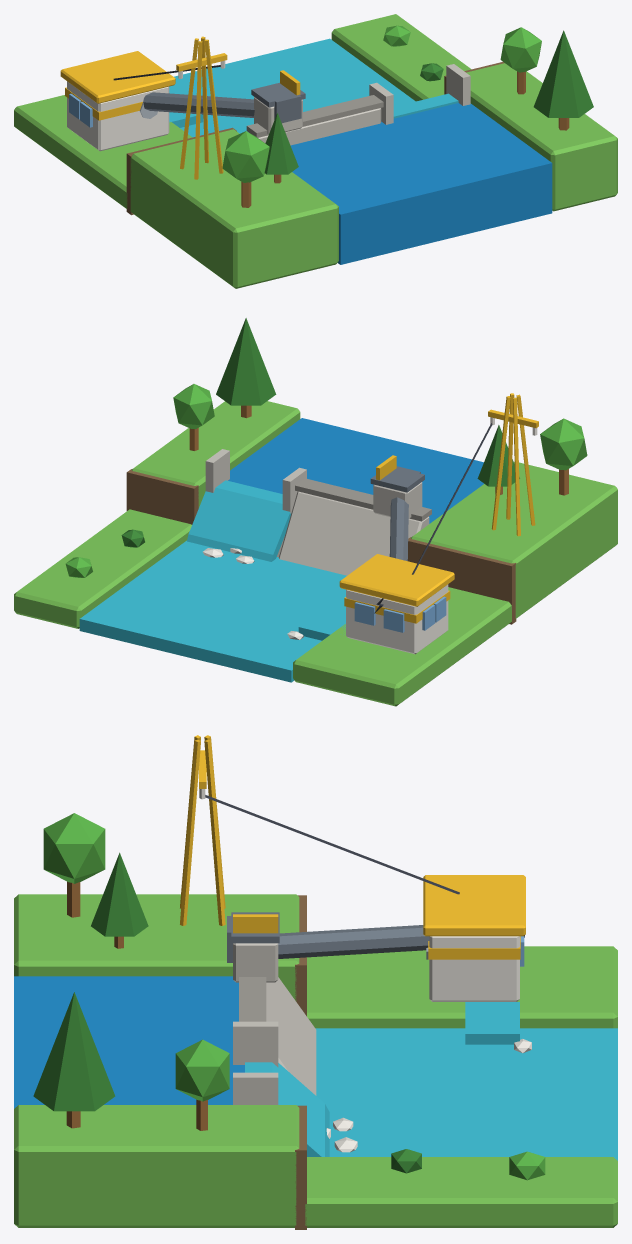
File: small_hydro.glb
3 views of the same model, one above another, from view 1: azimuth 30°, elevation 25°; view 2: azimuth 150°, elevation 25°; view 3: azimuth 270°, elevation 25° (orthographic). The views are drawn at different scales.
Visible parts, largest first — view 1: corpo; view 2: corpo; view 3: corpo.
Boxes of the visible parts, x1,y1,x2,y2 form: corpo: [14, 14, 617, 288]; corpo: [14, 318, 617, 706]; corpo: [14, 735, 617, 1229].
Bounding box in the file's own units: 4 × 1.9 × 4.
